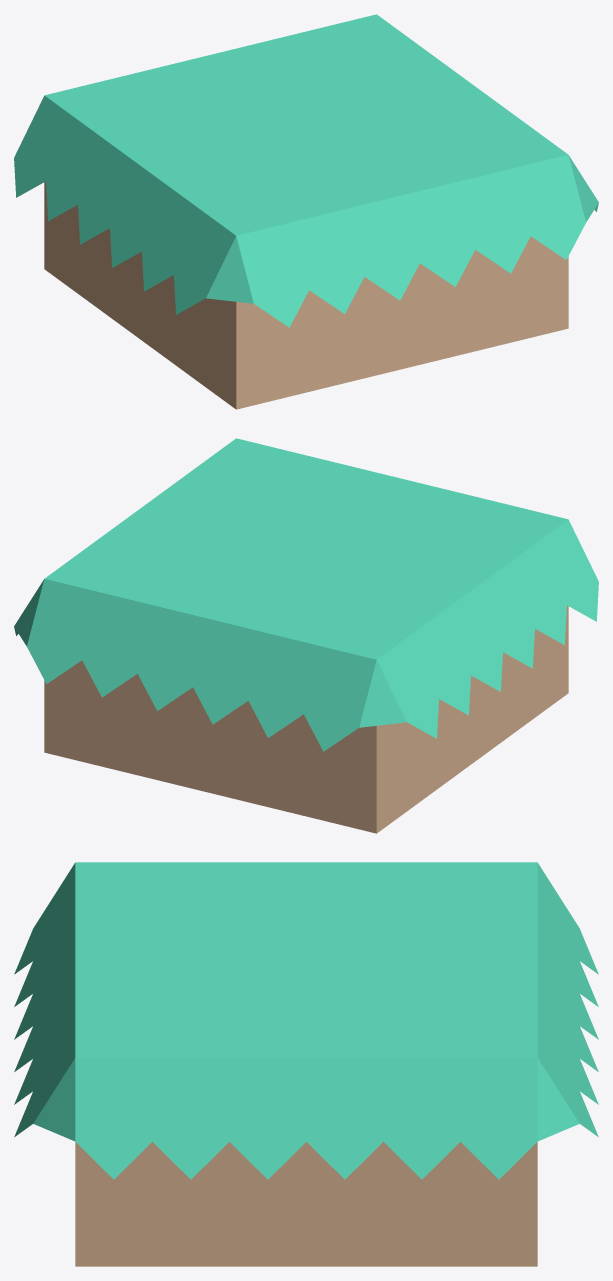
The model's file is blockHalf.glb.
3 views of the same model, one above another, from view 1: azimuth 30°, elevation 25°; view 2: azimuth 150°, elevation 25°; view 3: azimuth 270°, elevation 25° (orthographic). The views are drawn at different scales.
Parts seen in each view (by area): view 1: blockHalf; view 2: blockHalf; view 3: blockHalf.
Part boxes in pixels (x1,y1,x2,y2): blockHalf: [14, 14, 598, 409]; blockHalf: [14, 438, 598, 833]; blockHalf: [14, 862, 598, 1266].
Size of the model in its own units: 1.27 by 0.5 by 1.27.
